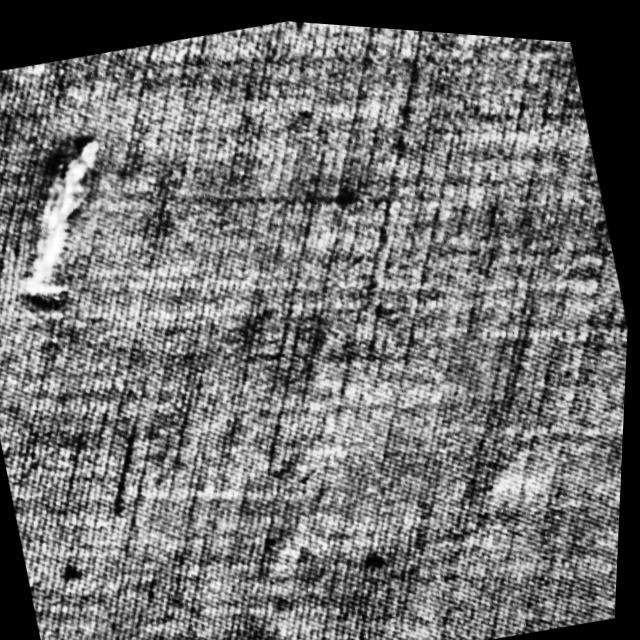Hole: (0, 117, 167, 318)
